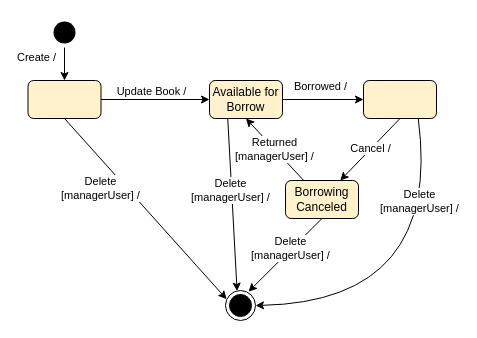
Image size: 477x338. Some labels were removed from this diagram. The centre of each missing label's shape, as x and y in pixels:
"Borrowed" belongs at pixel 399 99.
"New" belongs at pixel 64 99.
